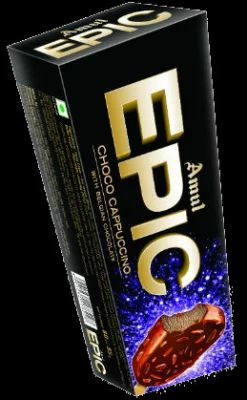Amul: (177, 157, 212, 215)
